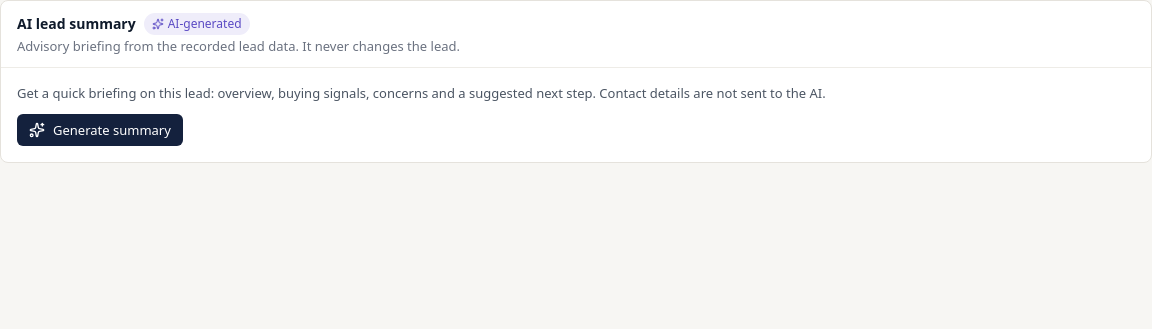
AI lead summary › generates on request, labels it as AI-generated advisory output and regenerates
Expected: the text "AI-generated" is shown, [144,13,250,35]
Click the button "Generate summary". click: (100, 130)
box: [17,114,183,146]
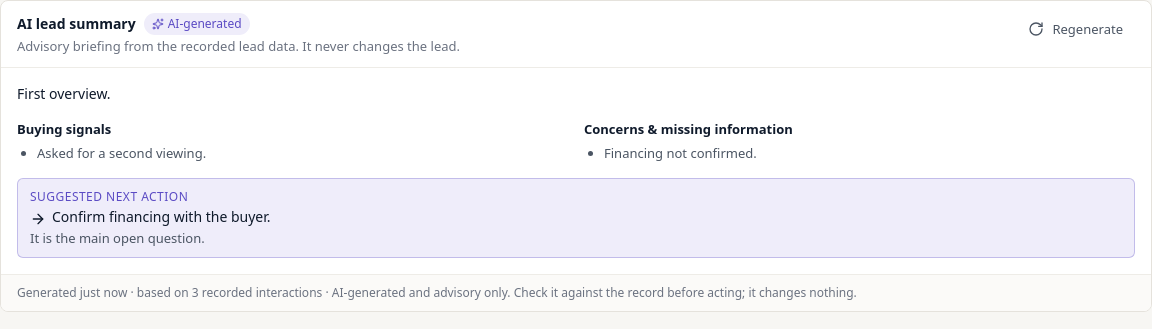
Result: the text "First overview." is shown at [17,84,111,103]
Result: the list item "Asked for a second viewing." is shown at [37,144,206,162]
Result: the list item "Financing not confirmed." is shown at [604,144,757,162]
Click the button with aria-label "regenerate ai summary". click: (1076, 29)
box: [1016,13,1135,45]
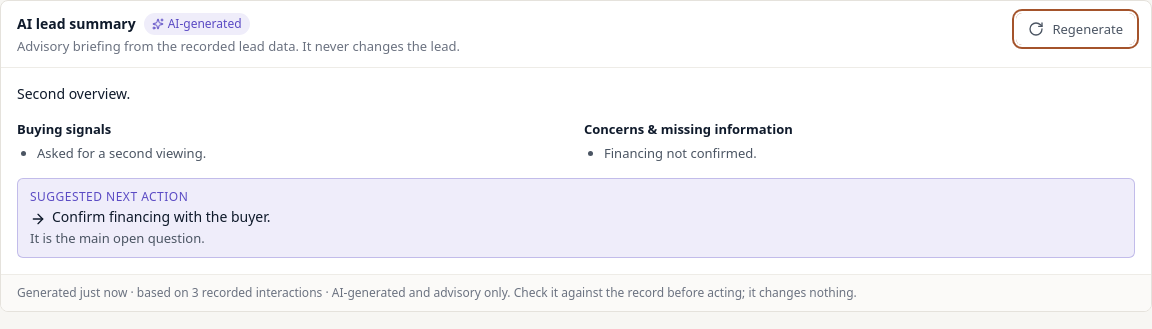
Result: the text "Second overview." is shown at [17,84,130,103]
